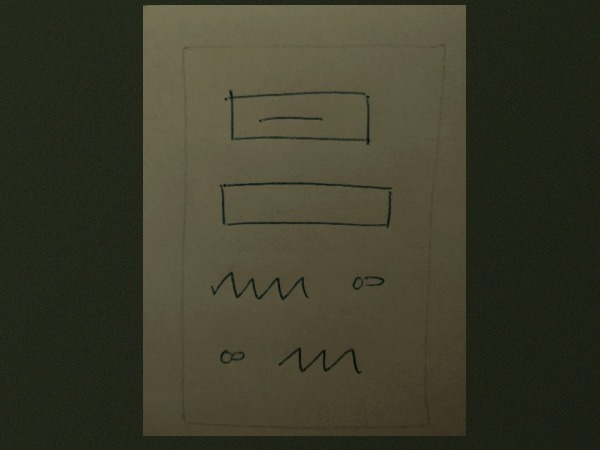button: (217, 84, 384, 150)
switch: (212, 342, 257, 374), (345, 267, 392, 296)
text: (205, 266, 316, 310), (274, 338, 370, 378)
text_input: (206, 178, 403, 245)
